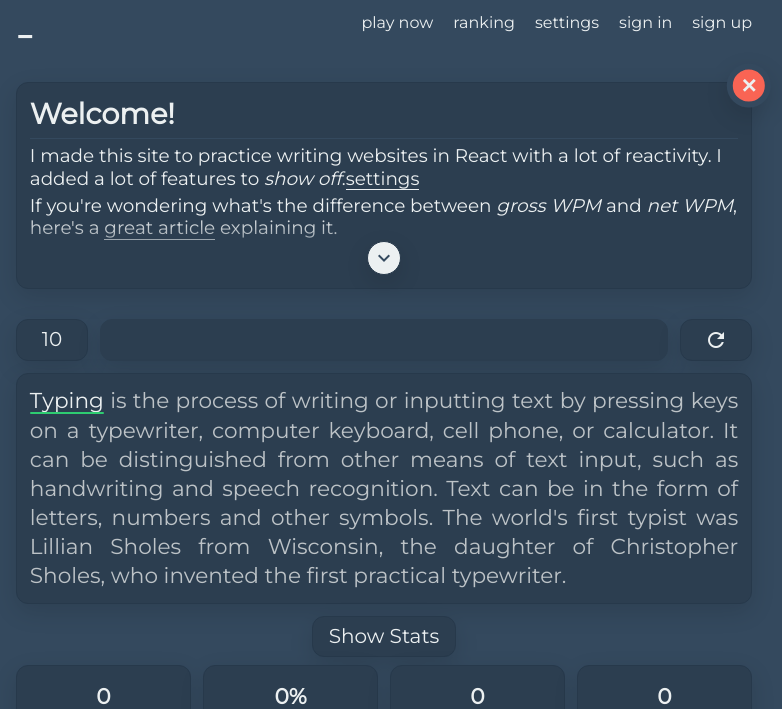
it: Timer button and restart button › toggles visibility of current time
Click the button named "timer-button" at (52, 340), box [16, 319, 88, 361]
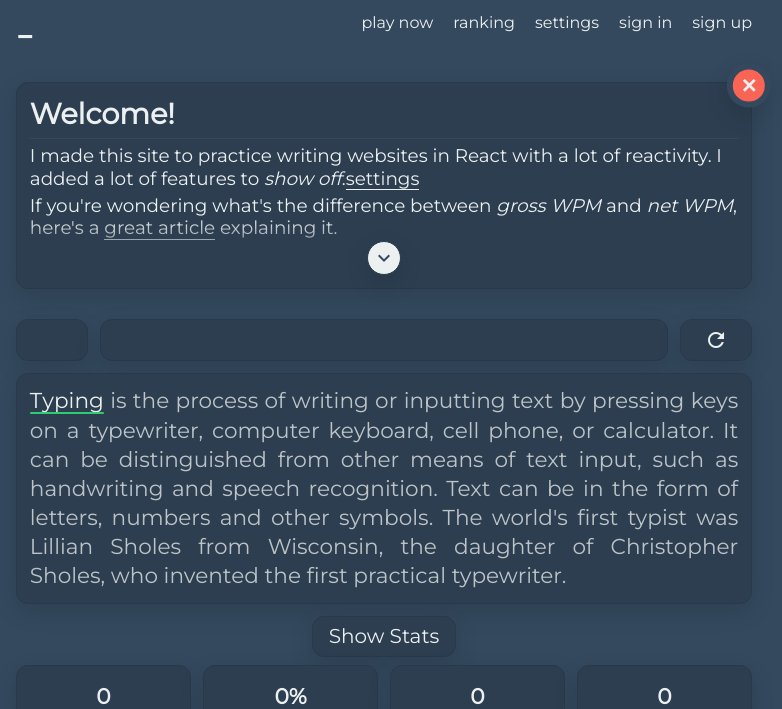
Result: the button "10" is gone
